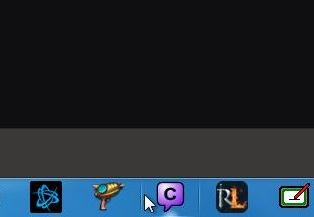cursor: (139, 191, 158, 217)
